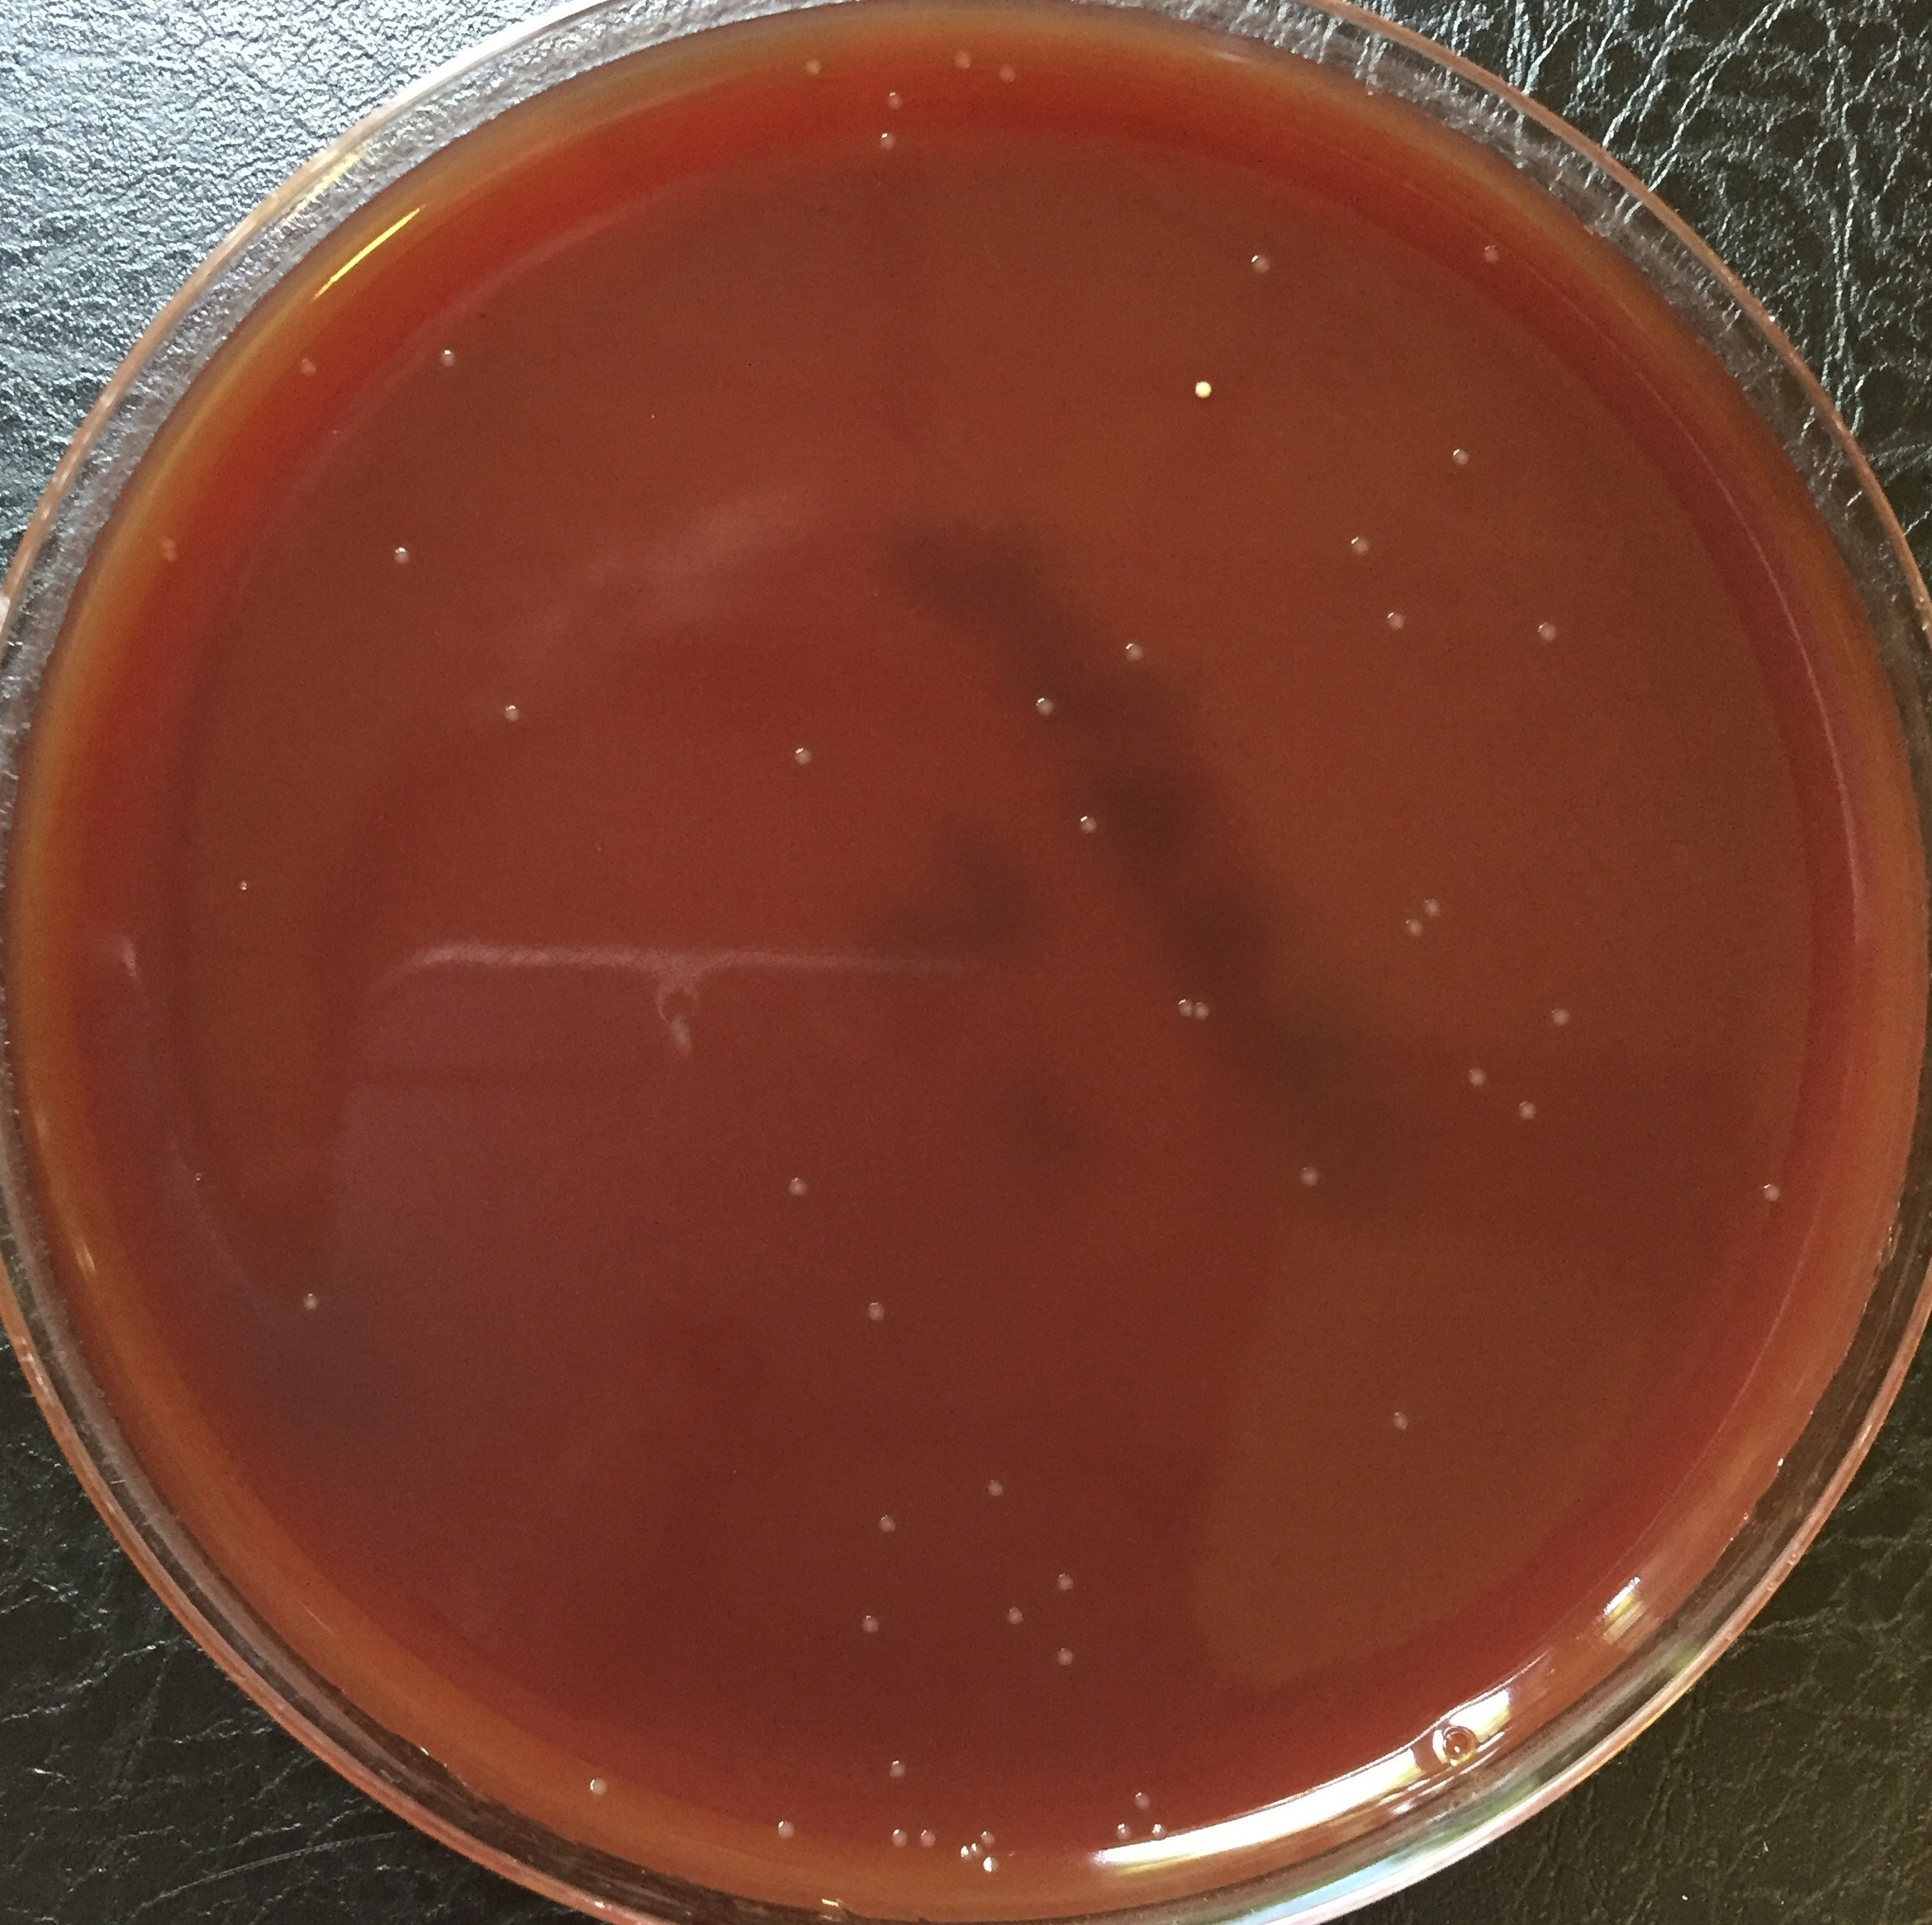sp10: (1102, 626, 1165, 682), (1237, 236, 1290, 298), (485, 691, 539, 744), (571, 1759, 617, 1814), (282, 1276, 328, 1329), (971, 1467, 1017, 1520), (1520, 610, 1574, 654), (1368, 603, 1423, 645), (430, 331, 465, 395), (985, 49, 1031, 95), (1382, 1394, 1423, 1446), (1470, 226, 1507, 280), (377, 538, 421, 583), (788, 44, 832, 90), (862, 129, 915, 166), (1437, 439, 1481, 483), (146, 534, 192, 576), (282, 342, 321, 391), (777, 1163, 818, 1209), (1282, 1155, 1322, 1200), (992, 1590, 1028, 1641), (866, 1497, 901, 1546), (786, 730, 825, 774), (1042, 1551, 1081, 1595), (880, 1749, 917, 1793), (855, 1287, 894, 1327), (1070, 804, 1107, 844), (1340, 525, 1377, 566), (1454, 1059, 1498, 1093), (1749, 1179, 1795, 1209), (936, 39, 973, 74), (767, 1803, 795, 1849), (1537, 1000, 1574, 1033), (867, 81, 908, 111), (1028, 686, 1058, 725), (846, 1609, 887, 1638), (1047, 1638, 1086, 1664), (917, 1819, 943, 1854), (887, 1821, 908, 1858), (1423, 890, 1449, 918), (1128, 1786, 1155, 1814), (1144, 1817, 1172, 1844), (1112, 1816, 1137, 1846), (1401, 915, 1426, 943), (1193, 996, 1216, 1026), (1511, 1098, 1537, 1123), (1170, 991, 1190, 1024), (978, 1823, 999, 1849), (982, 1854, 1003, 1877), (970, 1837, 987, 1862), (959, 1840, 973, 1869)
